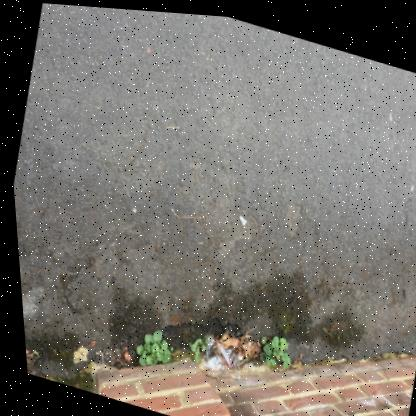Plastic: (196, 332, 236, 375)
Waste: (236, 211, 244, 222)
